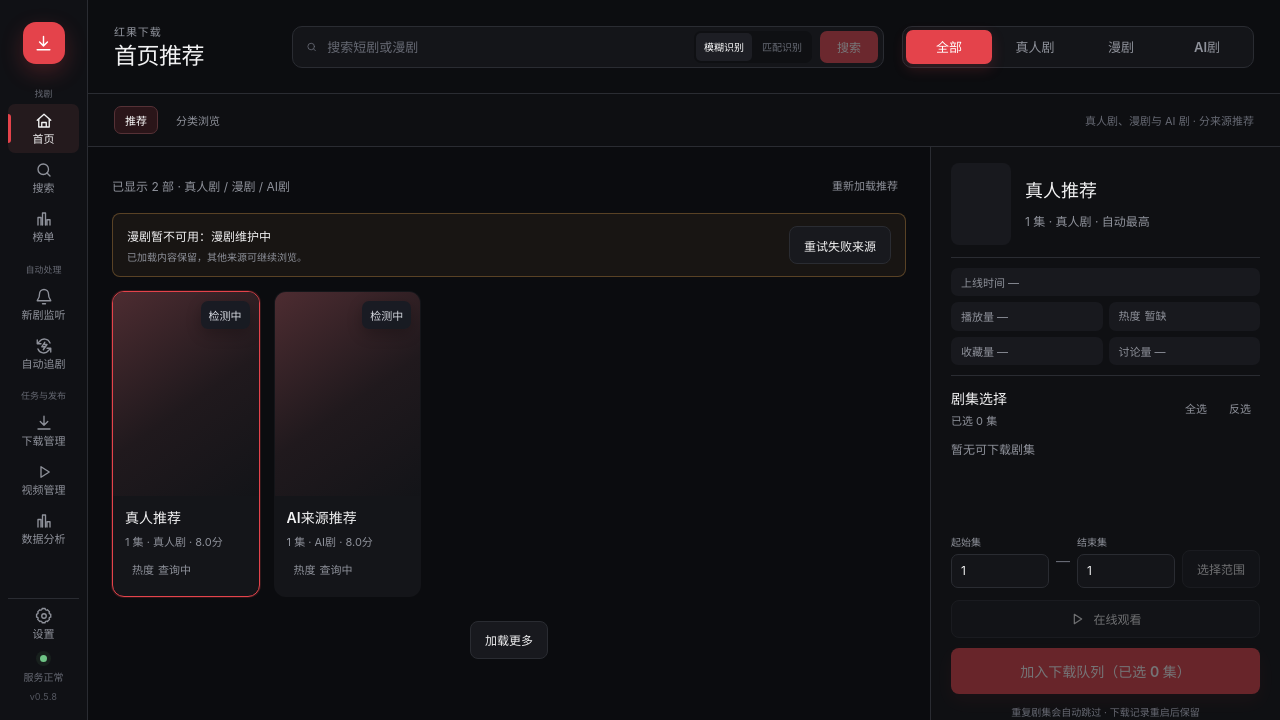
Test: App feed and search controls › keeps healthy home sources and retries only the failed source
Expected: the heading "AI来源推荐" is shown, [287, 509, 357, 526]
Expected: the heading "真人推荐" below "已加载内容保留，其他来源可继续浏览。" is shown, [125, 509, 181, 526]
What coordinates should you click on to do the following:
click the button "重试失败来源"
I would click on:
 (840, 245)
Its box is [789, 226, 891, 264].
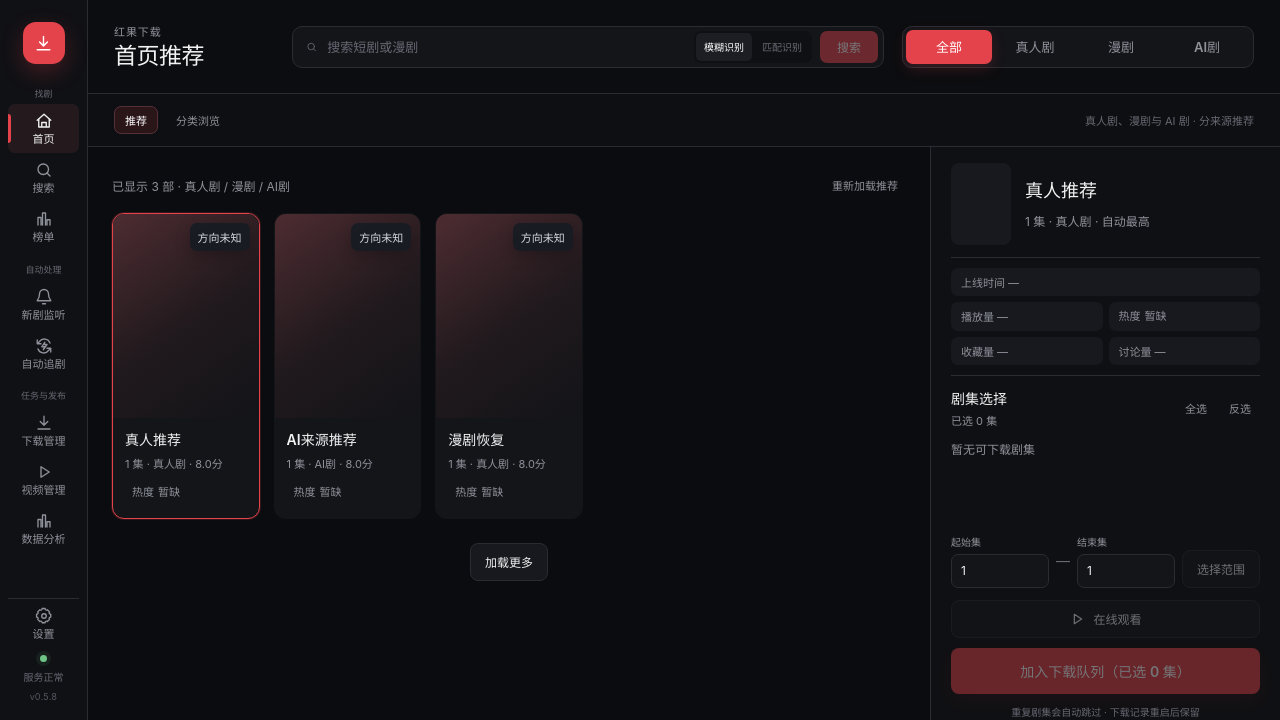
Expected: the heading "漫剧恢复" is shown, [448, 431, 504, 448]
Expected: the button "重试失败来源" is gone
